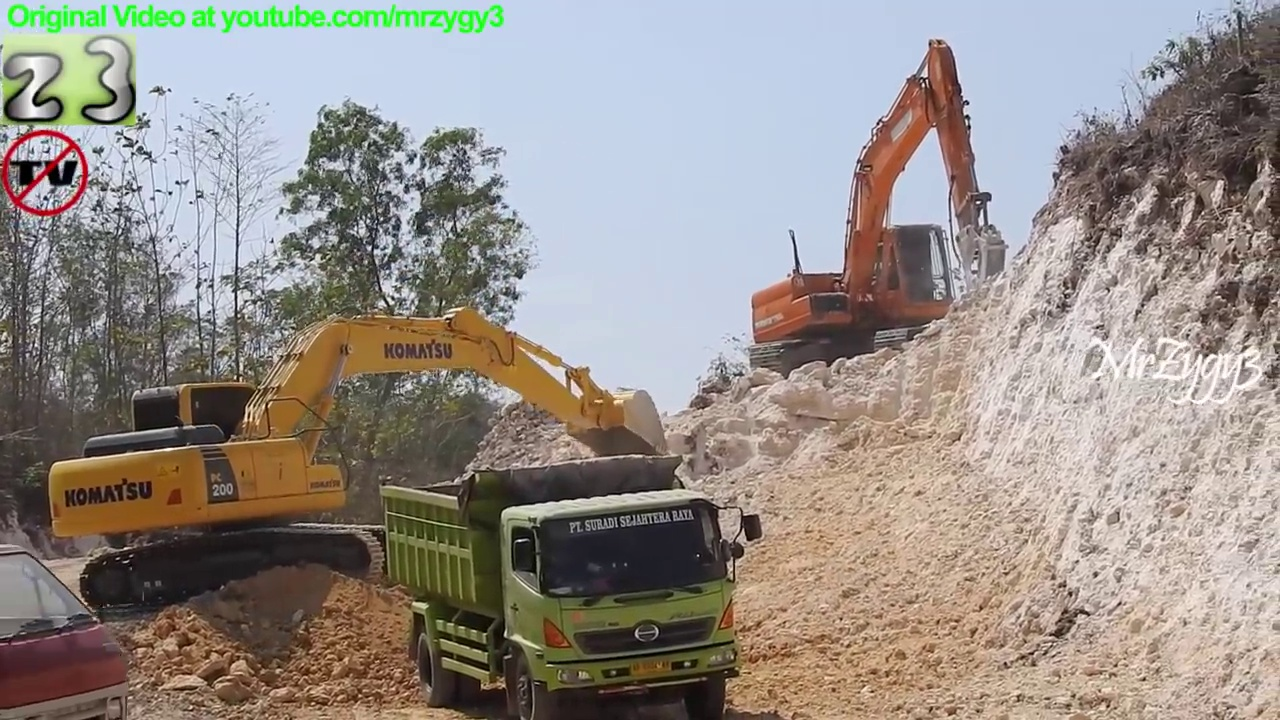excavator: (46, 306, 677, 627), (744, 36, 1017, 385)
truck: (381, 450, 765, 720), (2, 537, 140, 720)
